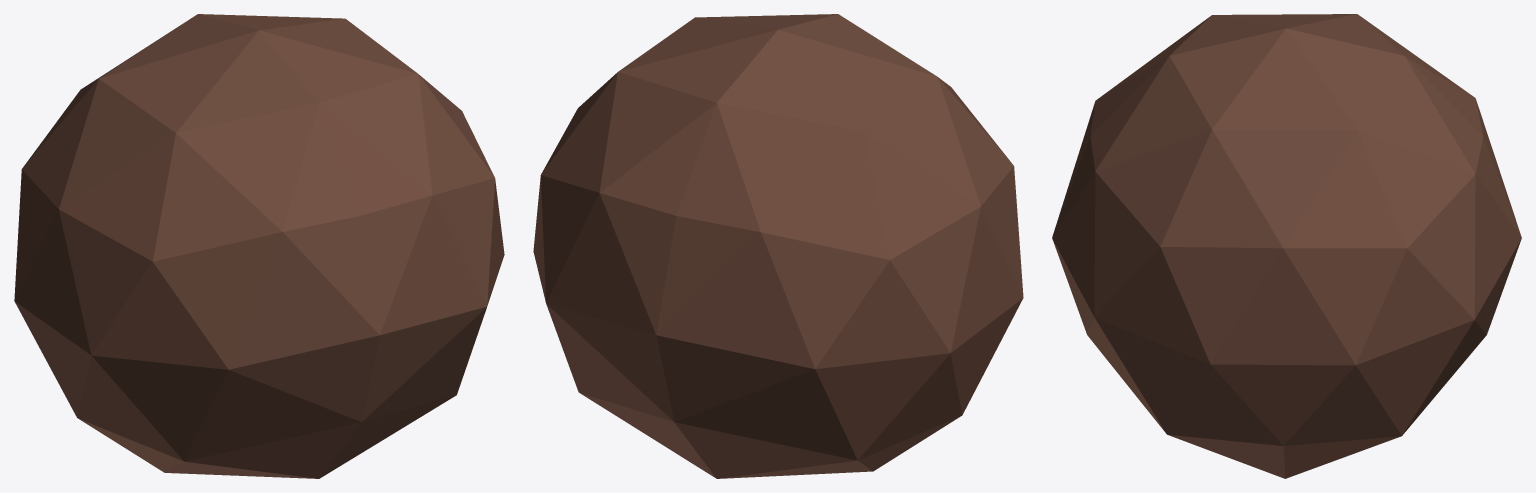
Rendered from coconut.glb.
3 renders of one model, left to right at view 1: azimuth 30°, elevation 25°; view 2: azimuth 150°, elevation 25°; view 3: azimuth 270°, elevation 25°, orthographic. The views are drawn at different scales.
Parts seen in each view (by area): view 1: Coconut; view 2: Coconut; view 3: Coconut.
Part boxes in pixels (x1,y1,x2,y2): Coconut: (14, 14, 504, 478); Coconut: (533, 14, 1023, 478); Coconut: (1052, 14, 1521, 478).
Bounding box in the file's own units: 0.7777 × 0.7769 × 0.7834.
